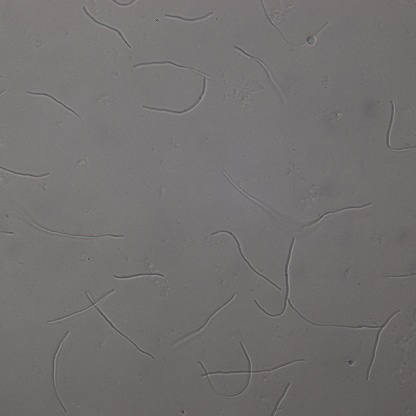Sensitive: (254, 237, 380, 330), (46, 288, 153, 357), (197, 340, 305, 399), (133, 60, 210, 117), (212, 228, 281, 291), (18, 210, 123, 240), (261, 1, 328, 47), (173, 295, 234, 345), (234, 45, 286, 101), (222, 170, 279, 220), (368, 310, 399, 375), (84, 7, 132, 48), (49, 330, 70, 411), (303, 202, 374, 225), (385, 100, 415, 153), (26, 90, 79, 116), (1, 164, 49, 181), (165, 11, 216, 24), (113, 270, 164, 282)
